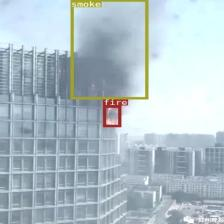fire: (102, 105, 120, 126)
smoke: (70, 0, 148, 99)
